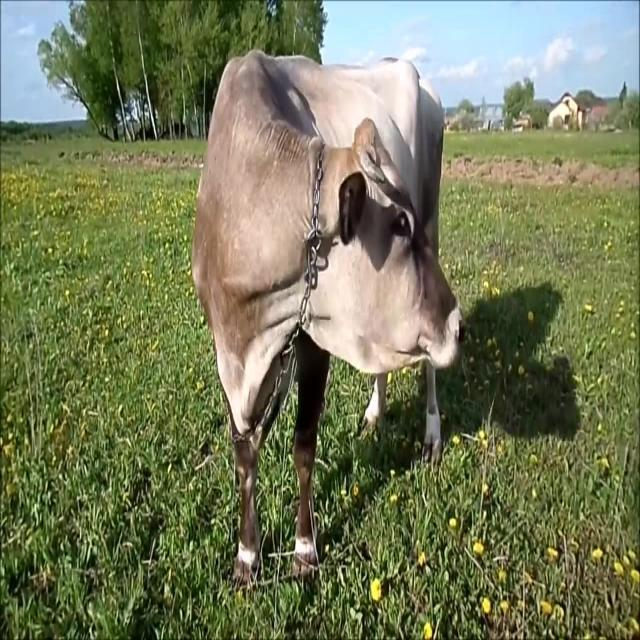cow: (192, 51, 461, 582)
